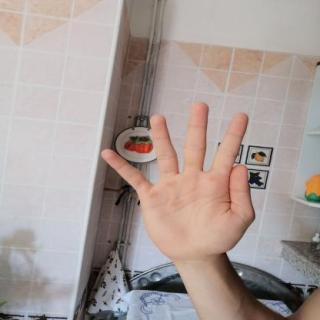SHEEN: (93, 97, 267, 264)
